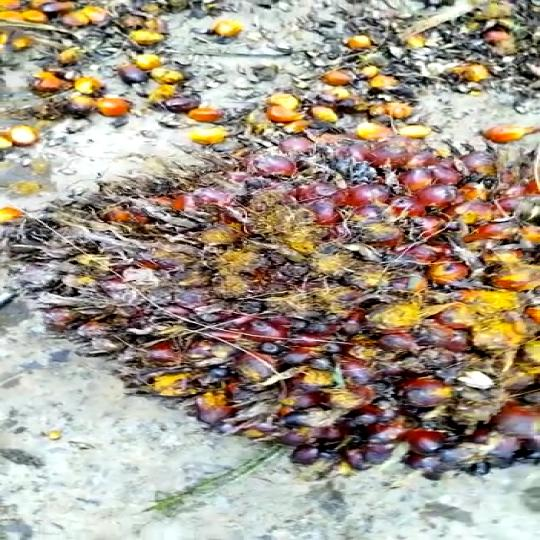masak: (0, 134, 540, 476)
